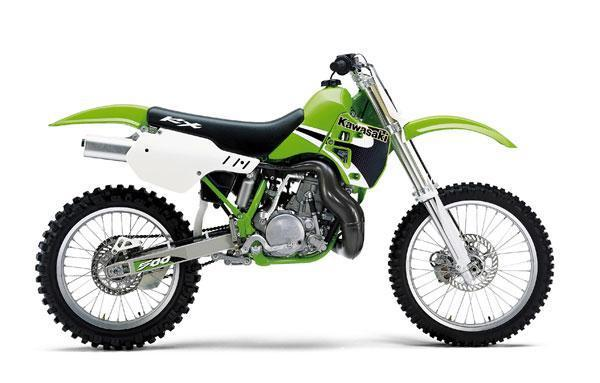motorcycle: (26, 39, 569, 363)
